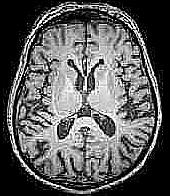Normal_Brain: (1, 1, 170, 196)
